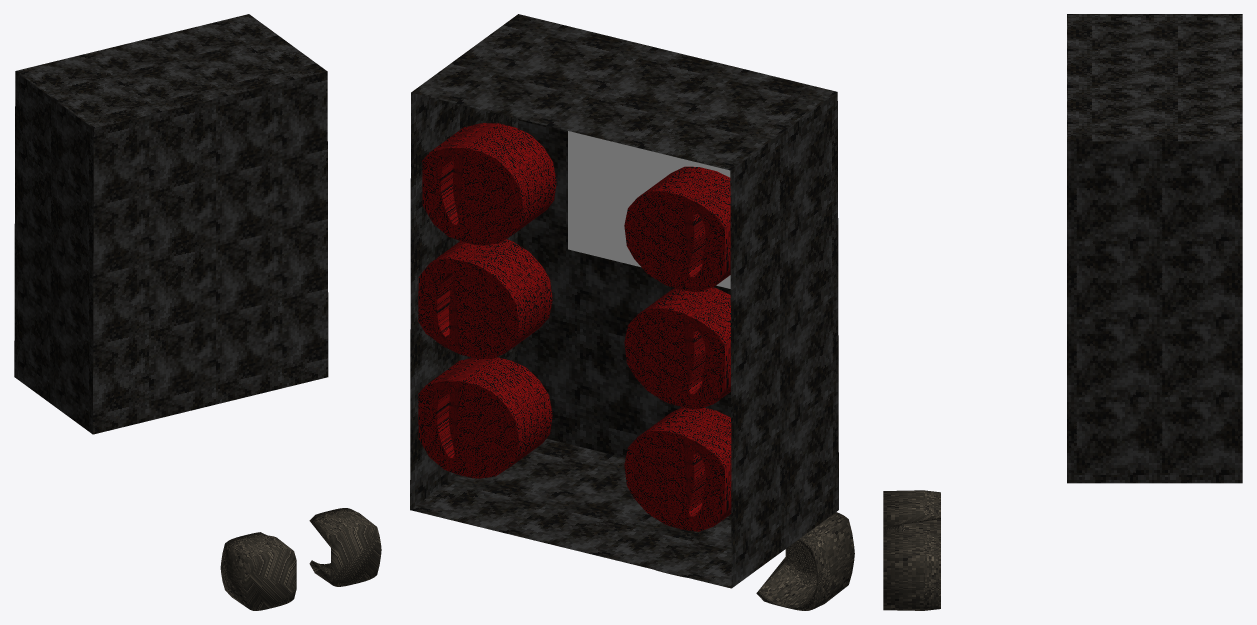
The model's file is pnchmn.FBX.
3 renders of one model, left to right at view 1: azimuth 30°, elevation 25°; view 2: azimuth 150°, elevation 25°; view 3: azimuth 270°, elevation 25°, orthographic. The views are drawn at different scales.
Parts seen in each view (by area): view 1: Frame, PunchLeft, PunchRight; view 2: Frame, PadLeftTop, PadLeftBottom, PadLeftMiddle, PadRightBottom, PadRightTop, PadRightMiddle, GameScreen, PunchLeft; view 3: Frame, PunchRight, PunchLeft.
Part boxes in pixels (box(x1,y1,x2,y2)): Frame: box(14, 14, 328, 434); PunchLeft: box(220, 532, 296, 610); PunchRight: box(309, 508, 381, 586); Frame: box(410, 14, 838, 588); PadLeftTop: box(422, 123, 556, 245); PadLeftBottom: box(418, 357, 552, 478); PadLeftMiddle: box(418, 239, 552, 359); PadRightBottom: box(624, 407, 731, 531); PadRightTop: box(624, 166, 730, 292); PadRightMiddle: box(624, 287, 730, 409); GameScreen: box(568, 131, 730, 288); PunchLeft: box(756, 512, 854, 610); Frame: box(1067, 14, 1242, 483); PunchRight: box(883, 531, 940, 610); PunchLeft: box(883, 490, 940, 534).
Size of the model in its own units: 24.89 by 44.8 by 29.46.
Materials: 3 (3 with a texture image).
